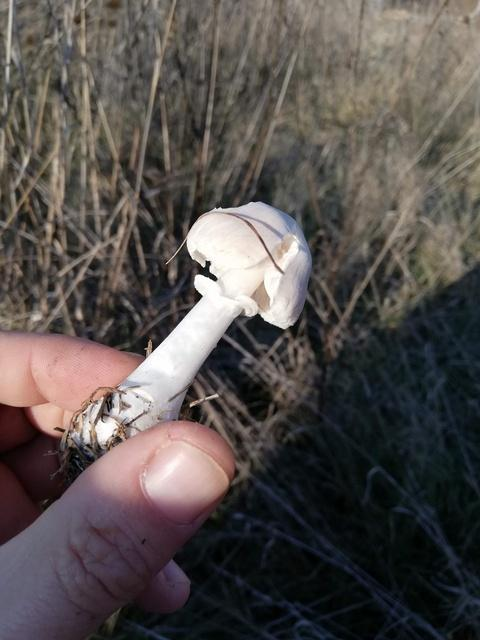poisonous_mushroom: (44, 198, 313, 485)
